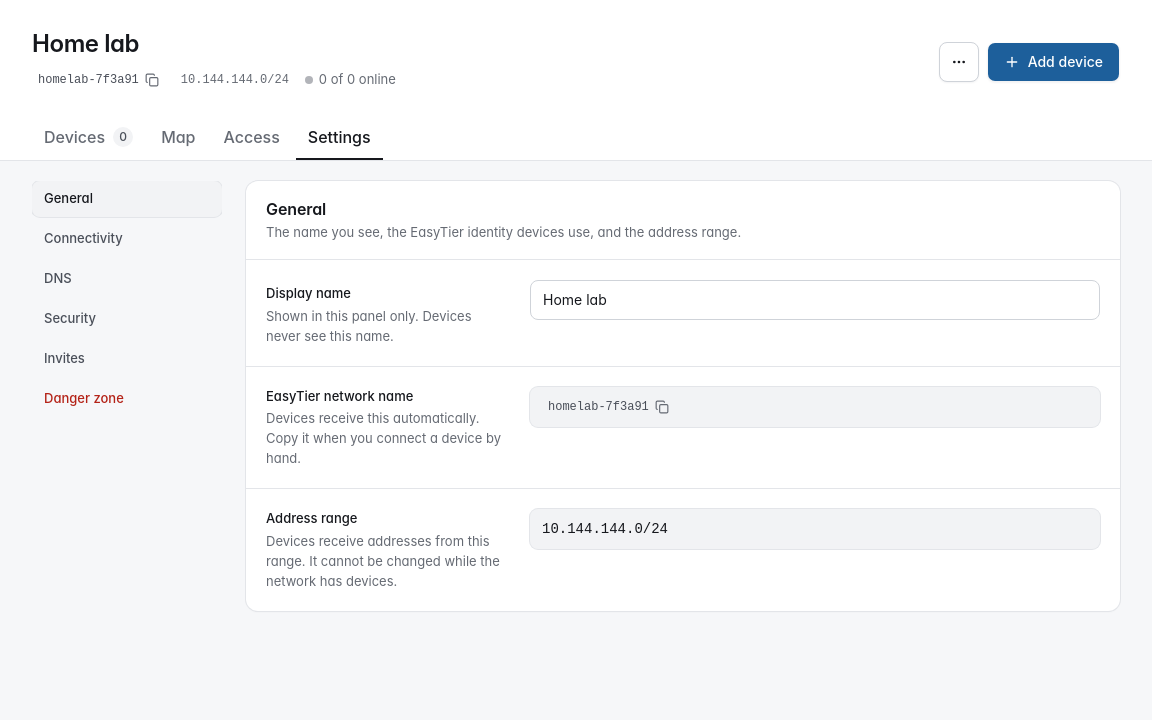
Test: NetworkSettingsPage › keeps jargon out of the connectivity and DNS sections
Click the button "Connectivity". click: coordinates (127, 239)
box: [32, 221, 222, 257]
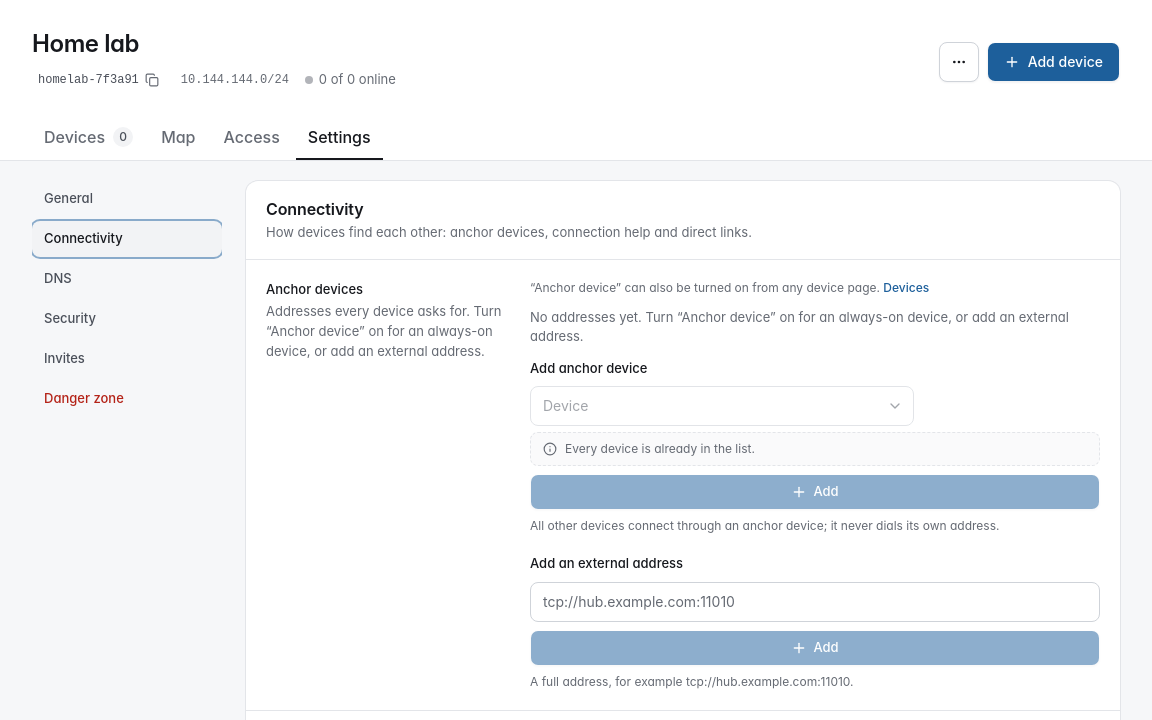
Now the text "turned on from any device page" is shown, box [530, 280, 880, 294]
Click the button "DNS". click: coordinates (127, 279)
box: [32, 261, 222, 297]
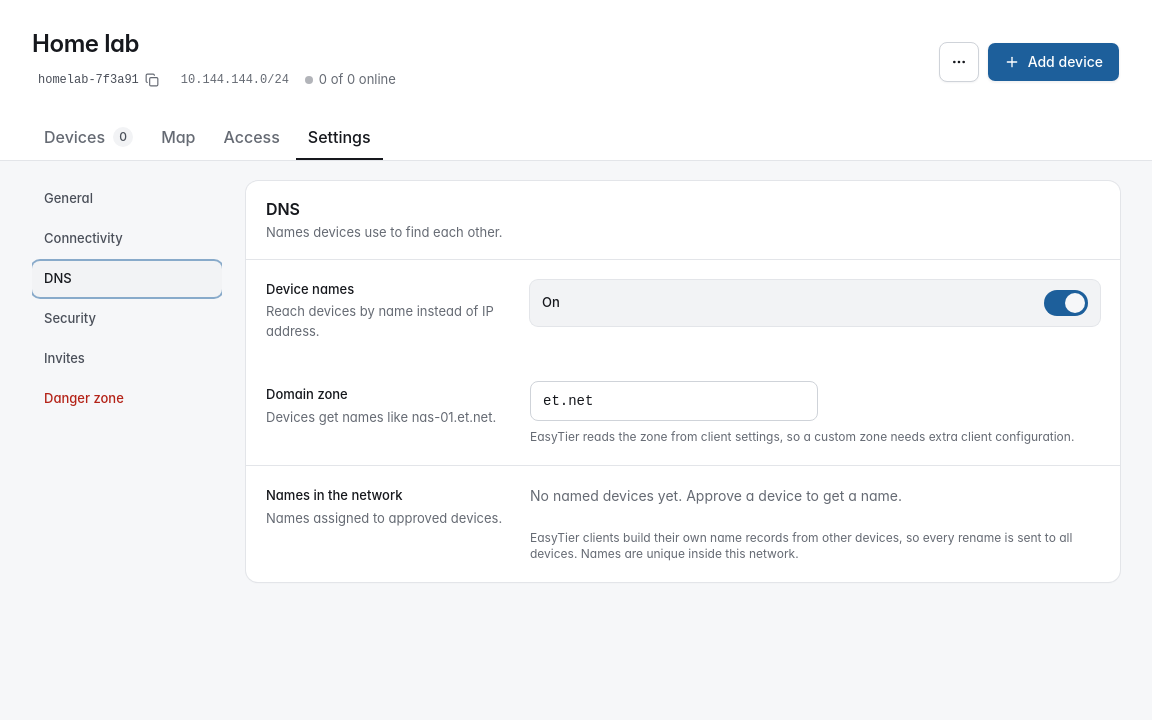
Now the heading "Device names" is shown, box [266, 280, 354, 296]
